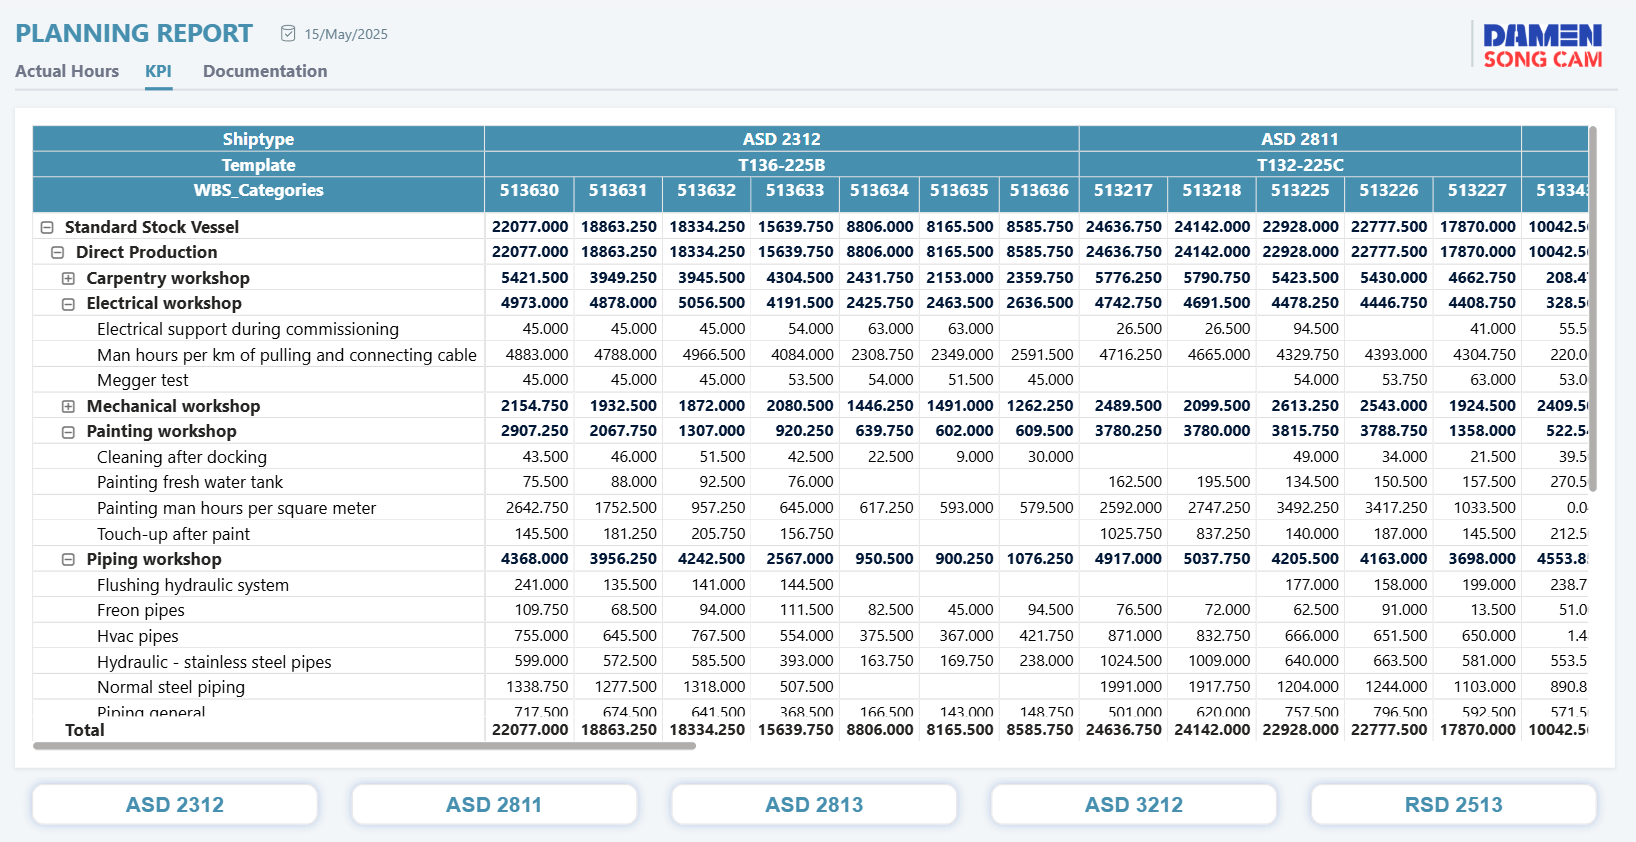

What the dashboard file says about the page in this screenshot:
{"tool":"powerbi","page":{"name":"KPI","canvas":[1568,790],"ordinal":1},"visuals":[{"type":"group","id":"g1","title":"Layout top","box":[32,12,1502,34],"z":0},{"type":"actionButton","title":"Button Filters","box":[1272,12,100,32],"z":0,"group":"g2"},{"type":"image","title":"Logo","box":[1426,18,108,20],"z":0,"group":"g1"},{"type":"card","title":"Layout  Date","fields":{"Values":["Min(Data Refresh.Data Refresh)"]},"box":[266,20,81,24],"z":0,"group":"g5"},{"type":"actionButton","title":"Documentation","box":[204,48,126,36],"z":0,"group":"g3"},{"type":"shape","title":"Line","box":[32,77,1504,12.5],"z":0,"group":"g4"},{"type":"textbox","title":"Report title","box":[32,12,1341.1,32],"z":1000,"group":"g1"},{"type":"actionButton","title":"Button count","box":[1343,12,20,32],"z":1000,"group":"g2"},{"type":"htmlContent443BE3AD55E043BF878BED274D3A6865","title":"Icon","fields":{"content":["AR _Measures.m.warningIcon"]},"box":[240,18,24.3,28],"z":1000,"group":"g5"},{"type":"actionButton","title":"Selected filters","box":[885.8,48,650.1,36],"z":1000,"group":"g4"},{"type":"pivotTable","fields":{"Rows":["WBS Category.WBS_Categories","Actual Hours.Deparment","Actual Hours.Workshop","KPI Table.KPI Items"],"Values":["Actual Hours.Measure_KPI"],"Columns":["Project List.Shiptype","Project List.Template","Project List.Yardnumber"]},"box":[32,98,1502.5,678],"z":1000},{"type":"actionButton","title":"Go to Issues ","box":[240,12,111,32],"z":2000,"group":"g5"},{"type":"group","id":"g2","title":"Filter button","box":[1272,12,100,32],"z":2000,"group":"g1"},{"type":"group","id":"g3","title":"Documentation","box":[204,48,126,36],"z":2000,"group":"g4"},{"type":"shape","title":"Separator","box":[1392,18,13.8,20],"z":3000,"group":"g1"},{"type":"group","id":"g4","title":"Page Navigator","box":[32,48,1504,41.5],"z":3000},{"type":"pageNavigator","title":"Page 3","box":[154,48,26,36.2],"z":3000,"group":"g4"},{"type":"group","id":"g5","title":"Data Refreshed","box":[240,12,110.3,34],"z":4000,"group":"g1"},{"type":"pageNavigator","title":"Page 2","box":[32,48,98,36.2],"z":4000,"group":"g4"}]}

Visuals, with their boxes on the page's 1568x790 design canvas (x1, y1, x2, y2). These are canvas units, not pixel positions in the 1636x842 screenshot, which may show the page scaled, cropped or inside an application window:
"Layout top" group: [32,12,1534,46]
"Button Filters" actionButton: [1272,12,1372,44]
"Logo" image: [1426,18,1534,38]
"Layout  Date" card: [266,20,347,44]
"Documentation" actionButton: [204,48,330,84]
"Line" shape: [32,77,1536,90]
"Report title" textbox: [32,12,1373,44]
"Button count" actionButton: [1343,12,1363,44]
"Icon" htmlContent443BE3AD55E043BF878BED274D3A6865: [240,18,264,46]
"Selected filters" actionButton: [886,48,1536,84]
pivotTable - WBS Category.WBS_Categories x Actual Hours.Deparment: [32,98,1534,776]
"Go to Issues " actionButton: [240,12,351,44]
"Filter button" group: [1272,12,1372,44]
"Documentation" group: [204,48,330,84]
"Separator" shape: [1392,18,1406,38]
"Page Navigator" group: [32,48,1536,90]
"Page 3" pageNavigator: [154,48,180,84]
"Data Refreshed" group: [240,12,350,46]
"Page 2" pageNavigator: [32,48,130,84]
